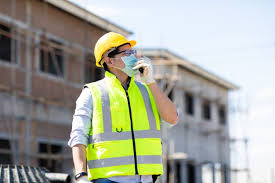Helmet: (88, 30, 134, 55)
Jacket: (81, 76, 174, 180)
Mask: (119, 59, 153, 85)
